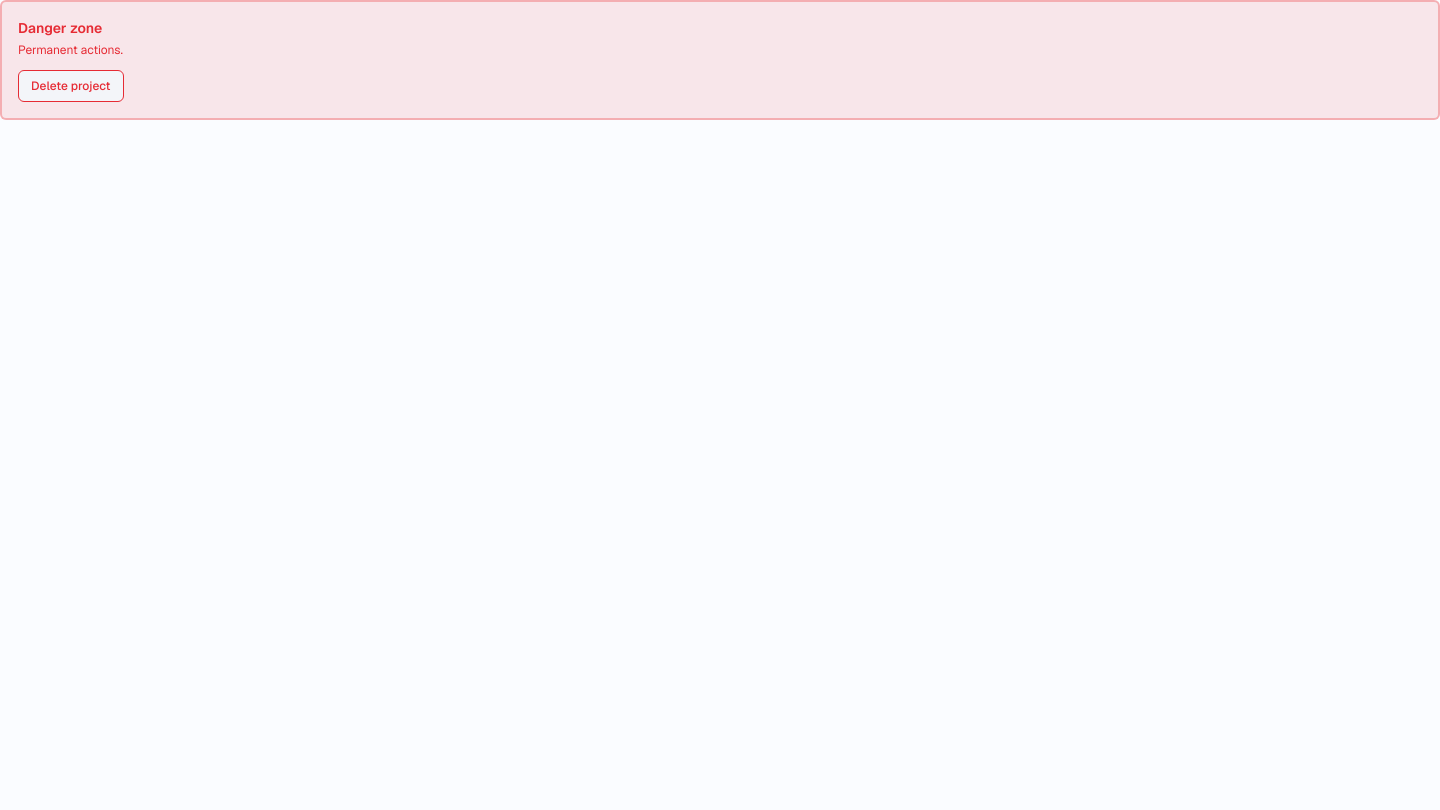
DangerZoneSection › clicking Delete opens modal with project name interpolated
Step 1. Click the button "Delete project" → click(71, 86), box x1=18 y1=70 x2=124 y2=102
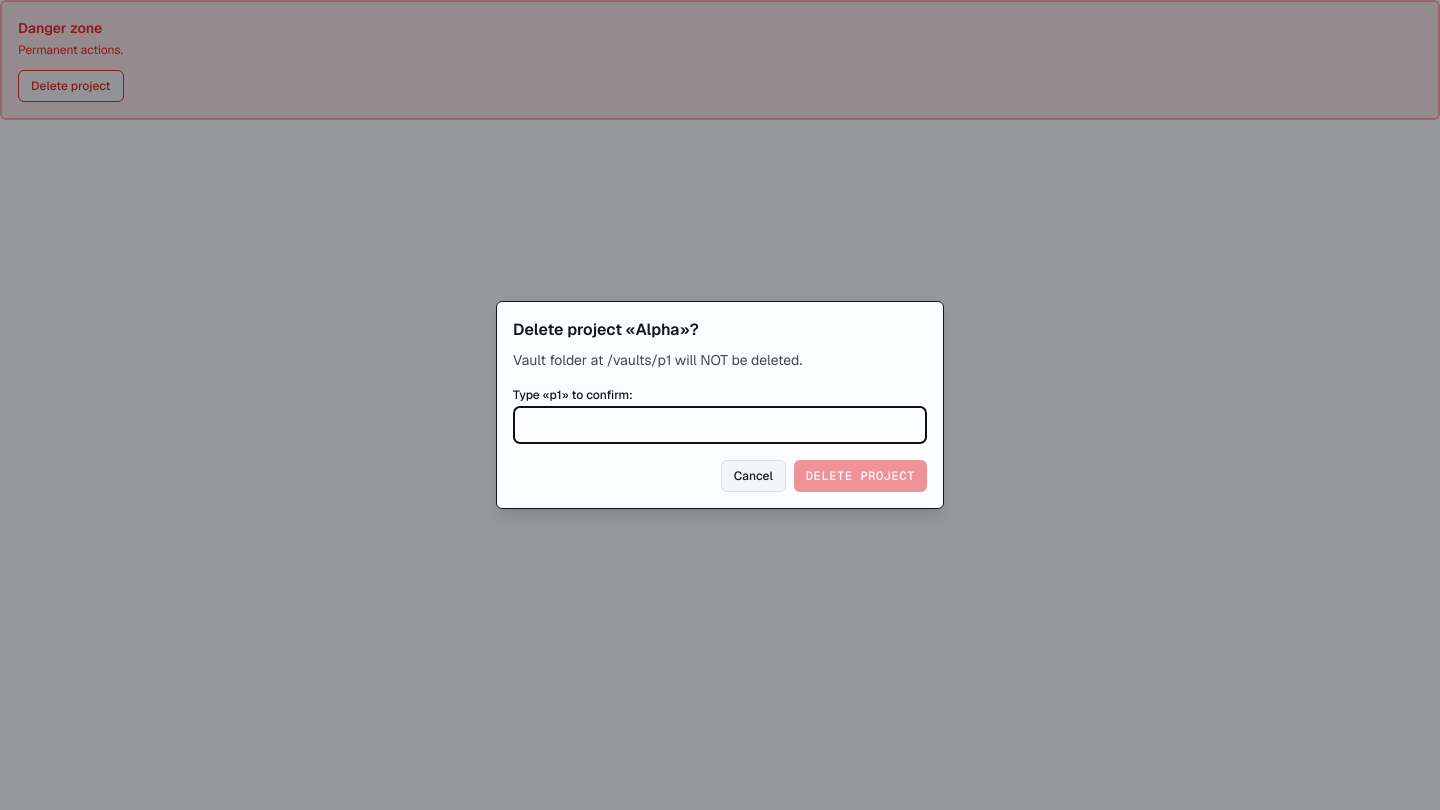
expect the heading "Delete project «Alpha»?" is shown: met, box x1=513 y1=319 x2=699 y2=340
expect the text "Type «p1» to confirm:" is shown: met, box x1=513 y1=387 x2=633 y2=403
